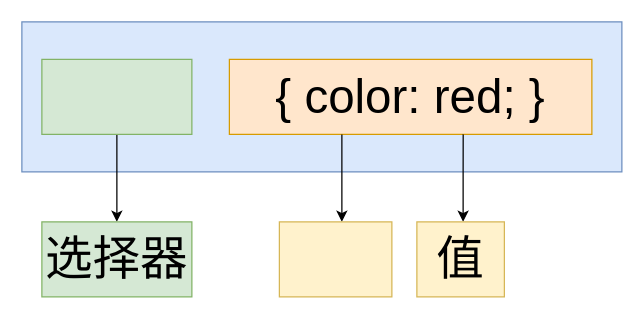
This 644x319 diagram has some shape labels left out. Here are the shapes that lost their labels. From the top down, the centre of each, then its label:
At [116,96]: "h1".
At [335,259]: "属性".
